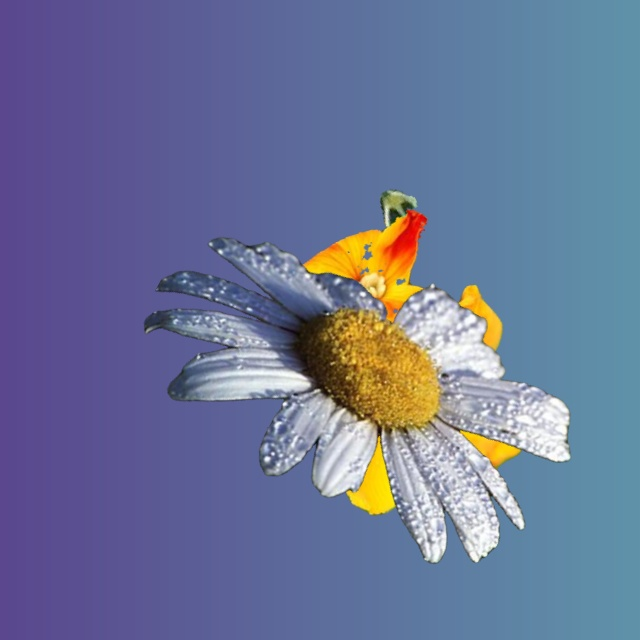daisy: (144, 237, 570, 563)
wallflower: (289, 209, 525, 514)
ylang-ylang: (380, 189, 416, 226)
